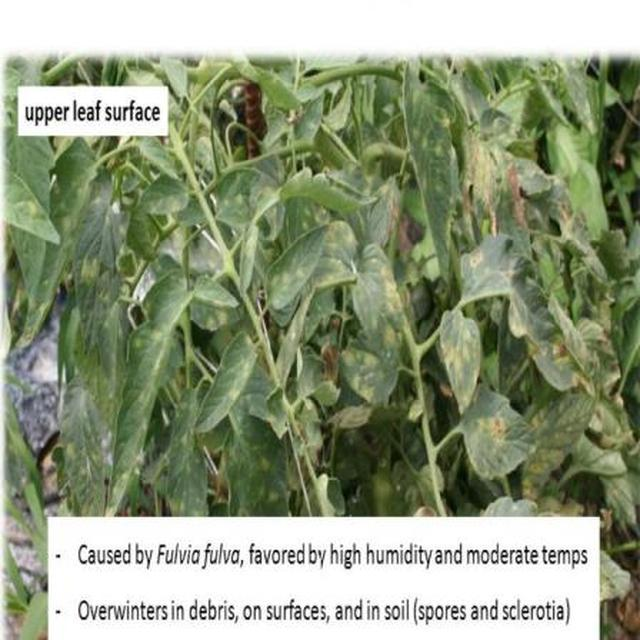Leaf Mold: (58, 53, 640, 632)
